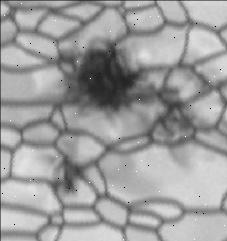good_void: (56, 33, 147, 123), (140, 82, 198, 149), (49, 152, 91, 200)
